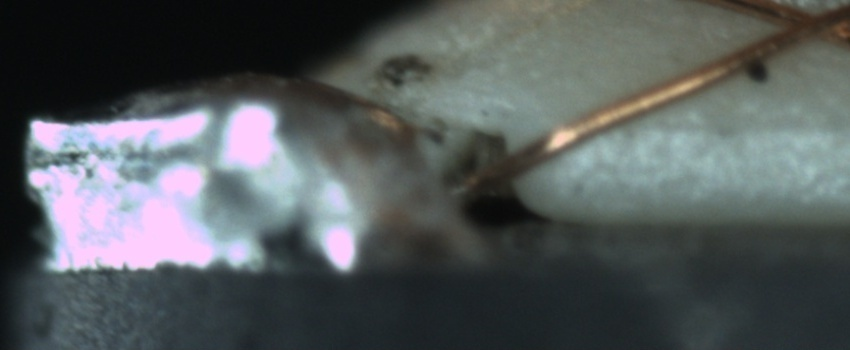CL: (765, 2, 846, 47)
DL: (626, 89, 850, 159)
